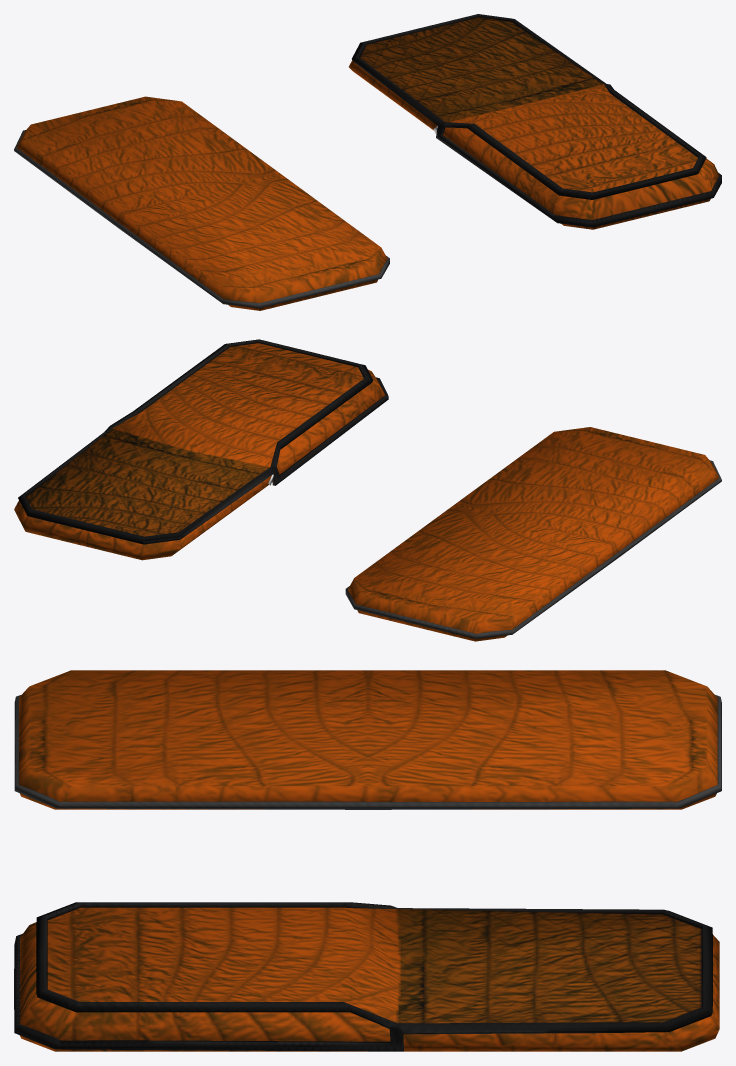
File: SleepingBags_Orange.obj
3 renders of one model, top to bottom at view 1: azimuth 30°, elevation 25°; view 2: azimuth 150°, elevation 25°; view 3: azimuth 270°, elevation 25°, orthographic. The views are drawn at different scales.
Parts seen in each view (by area): view 1: Cube.019_Material.021, Cube.018_Material.021, Cube.015_Material.021, Cube.016_Material.021; view 2: Cube.019_Material.021, Cube.018_Material.021, Cube.015_Material.021, Cube.016_Material.021; view 3: Cube.019_Material.021, Cube.018_Material.021, Cube.015_Material.021, Cube.016_Material.021.
Boxes of the visible parts, <box> form: Cube.019_Material.021: <box>16,96,387,310</box>; Cube.018_Material.021: <box>349,17,719,229</box>; Cube.015_Material.021: <box>352,14,721,227</box>; Cube.016_Material.021: <box>14,130,389,308</box>; Cube.019_Material.021: <box>348,427,719,641</box>; Cube.018_Material.021: <box>14,343,384,560</box>; Cube.015_Material.021: <box>18,339,388,544</box>; Cube.016_Material.021: <box>345,460,721,638</box>; Cube.019_Material.021: <box>19,670,717,809</box>; Cube.018_Material.021: <box>20,907,719,1051</box>; Cube.015_Material.021: <box>14,902,712,1051</box>; Cube.016_Material.021: <box>14,695,721,809</box>.
Bounding box in the file's own units: 5.97 × 0.3312 × 4.88.
